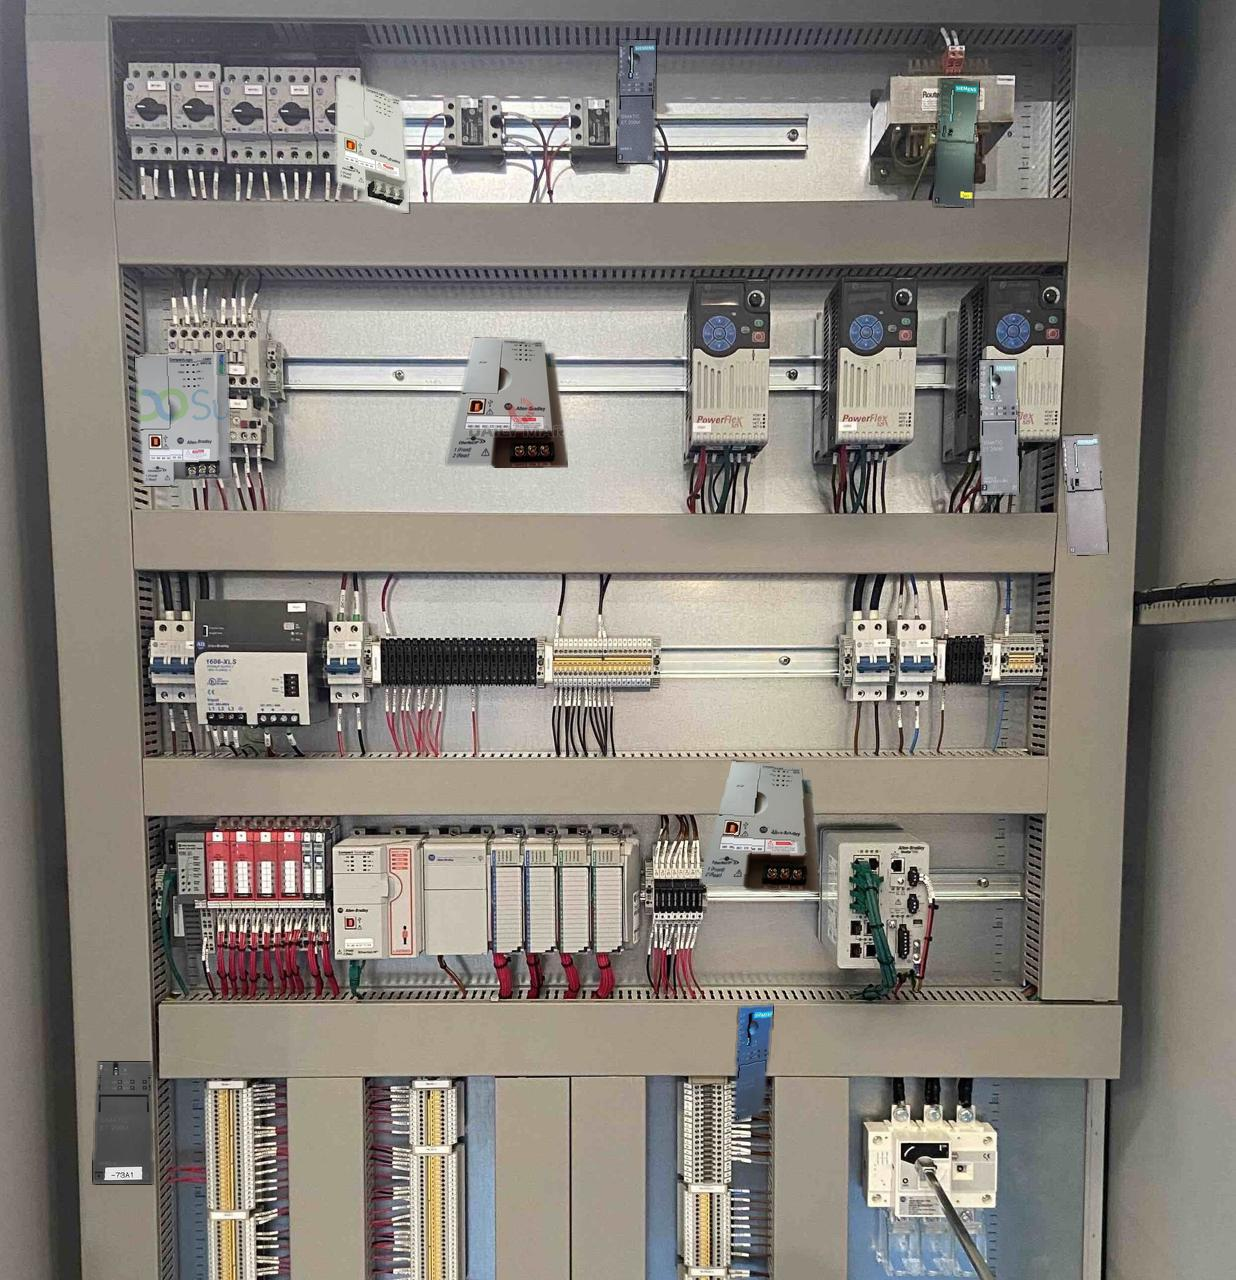AllenBradley: (446, 337, 567, 467), (699, 761, 819, 891), (135, 351, 230, 485), (335, 75, 408, 213)
Siemens: (934, 78, 978, 207), (1062, 434, 1107, 555)
